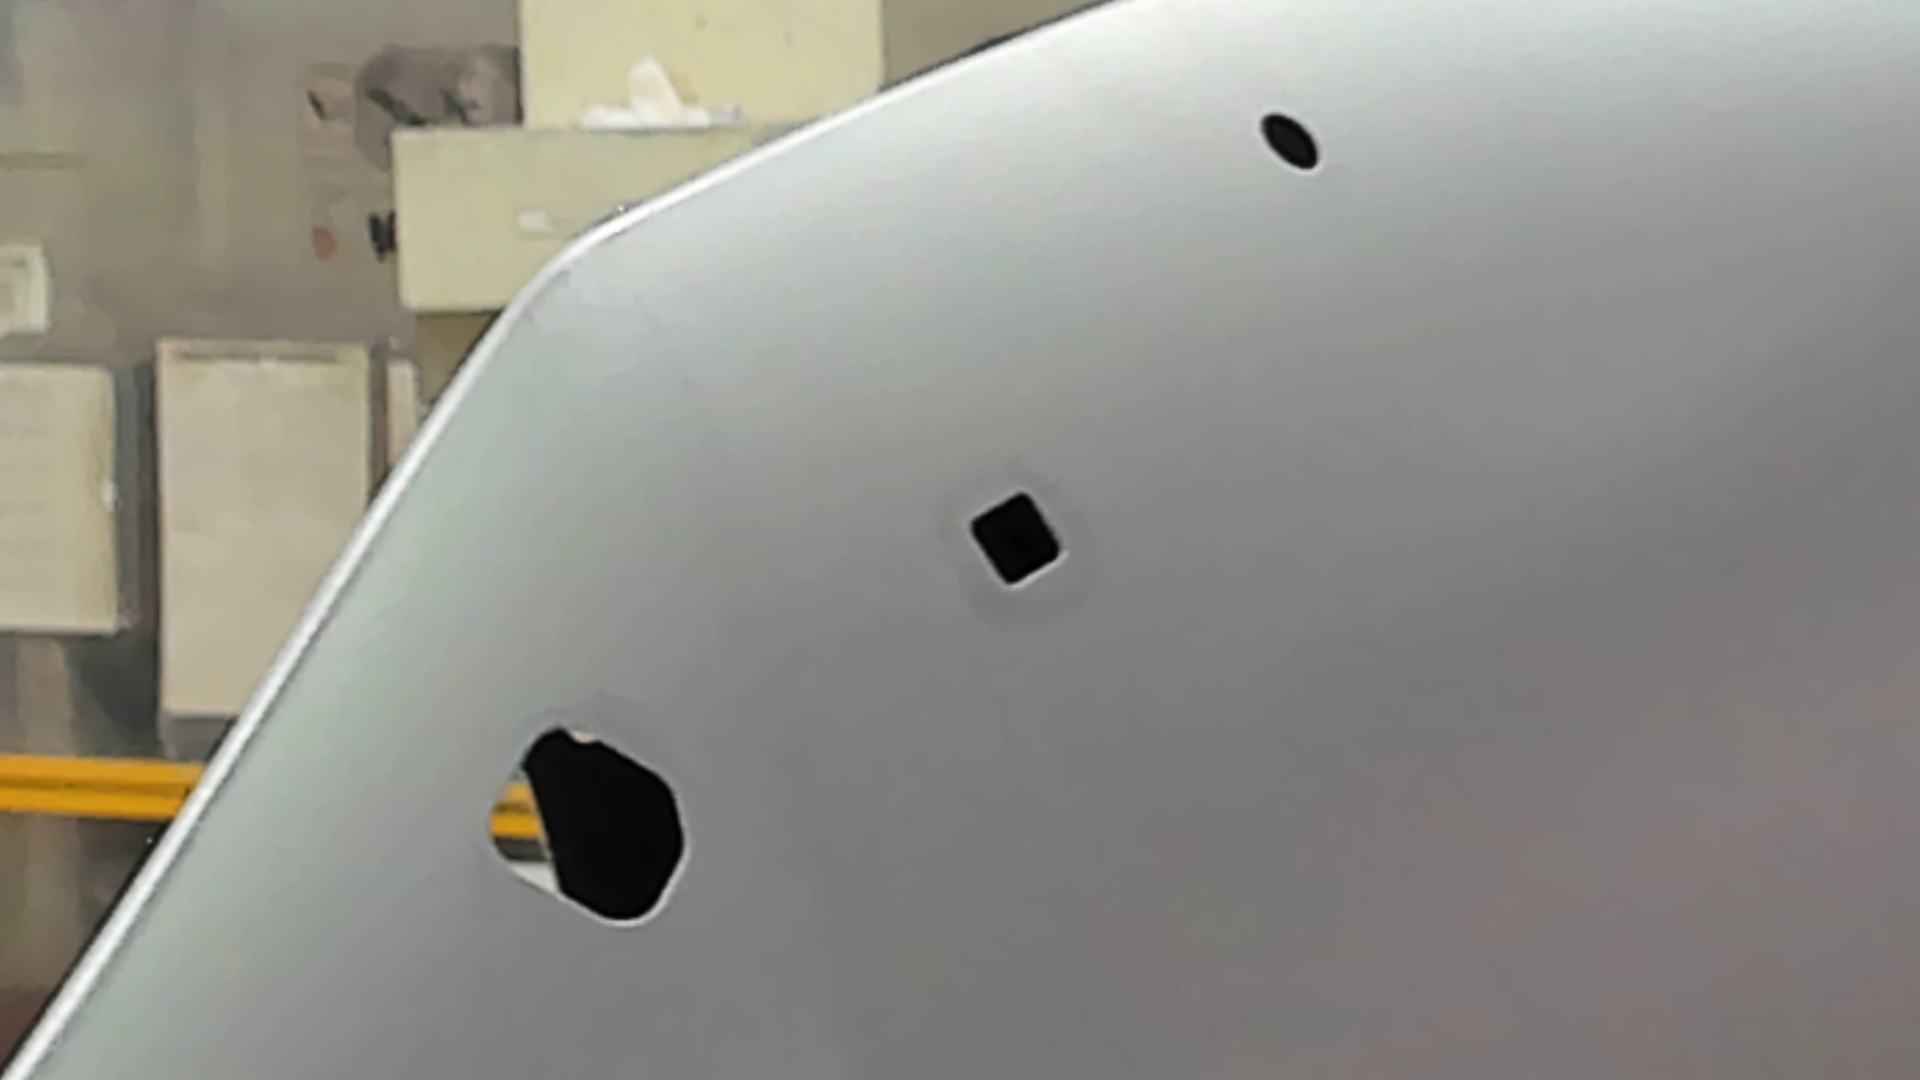chico: (1255, 109, 1321, 174)
grande: (477, 719, 698, 928)
mediano: (964, 488, 1069, 596)
